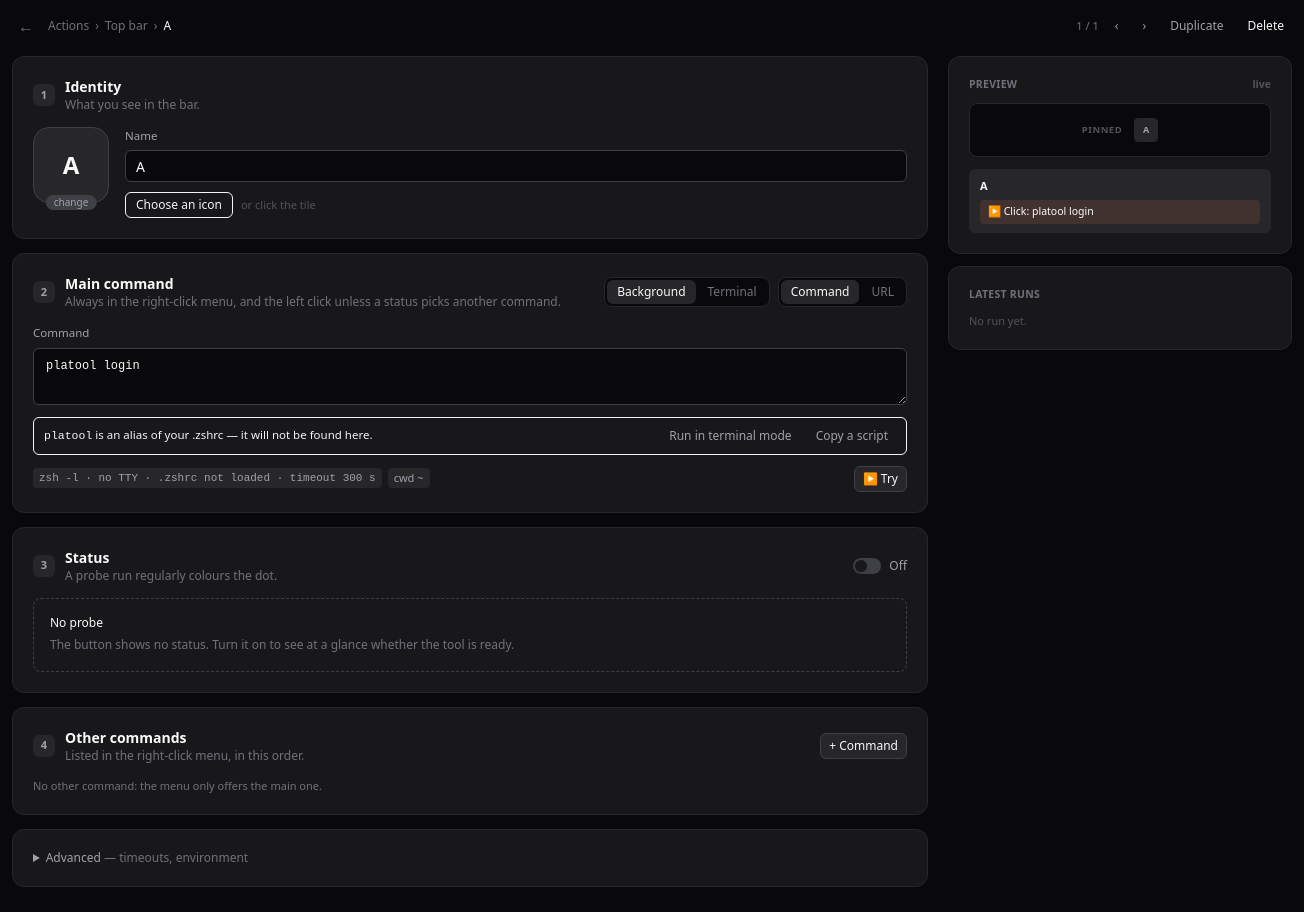
Settings › Actions — run mode › the alias warning under the command offers to switch the action to Terminal
Click the button "Run in terminal mode" at (730,436), box [661,424,800,448]
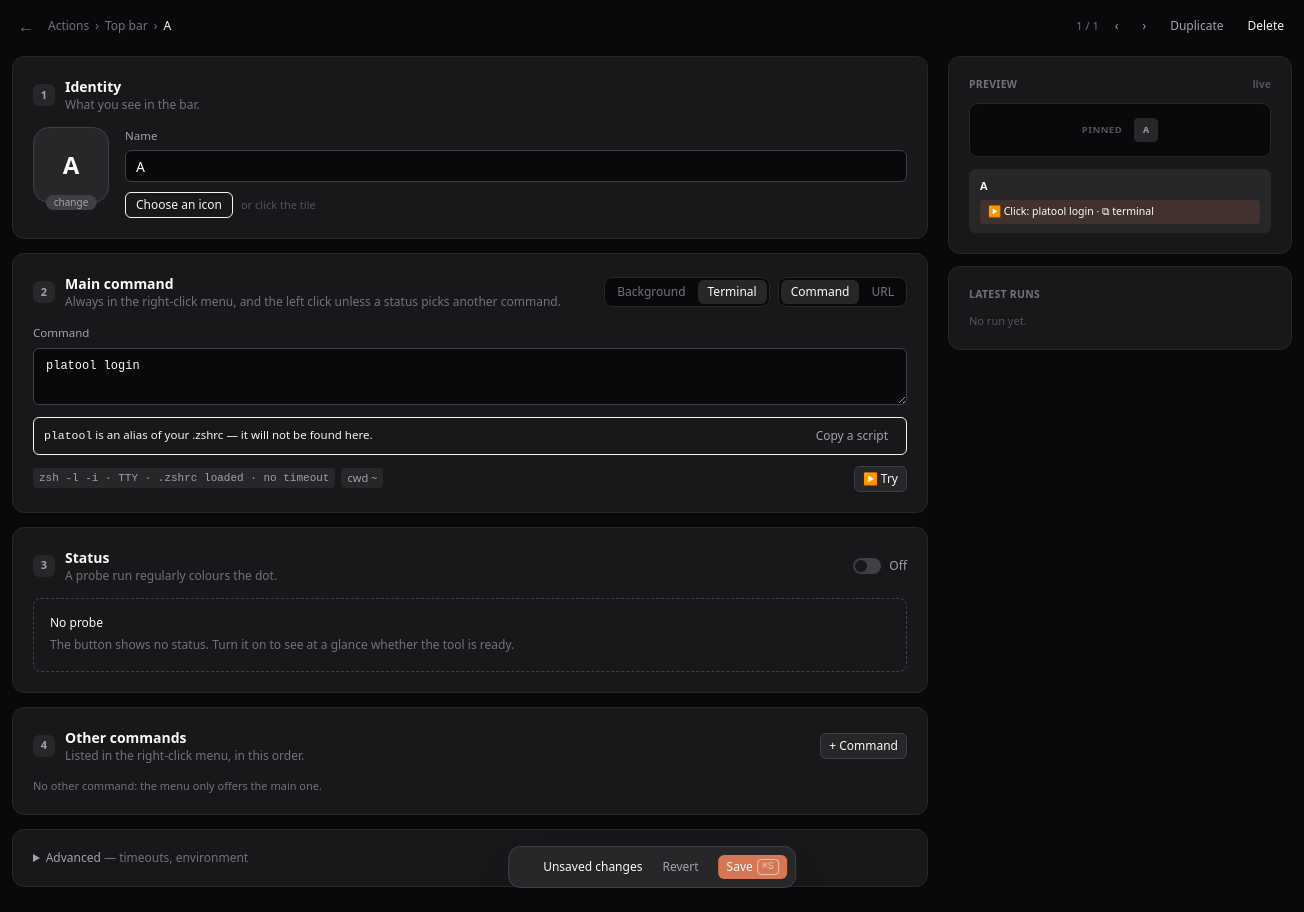
Expected: the button "Run in terminal mode" is gone
